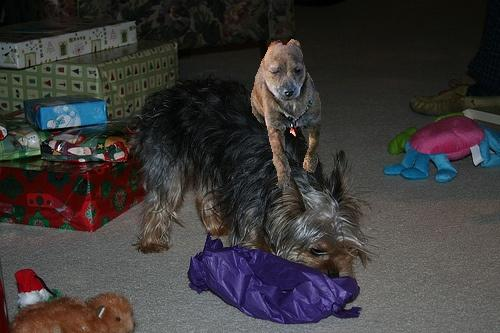tampered: (251, 40, 321, 190)
